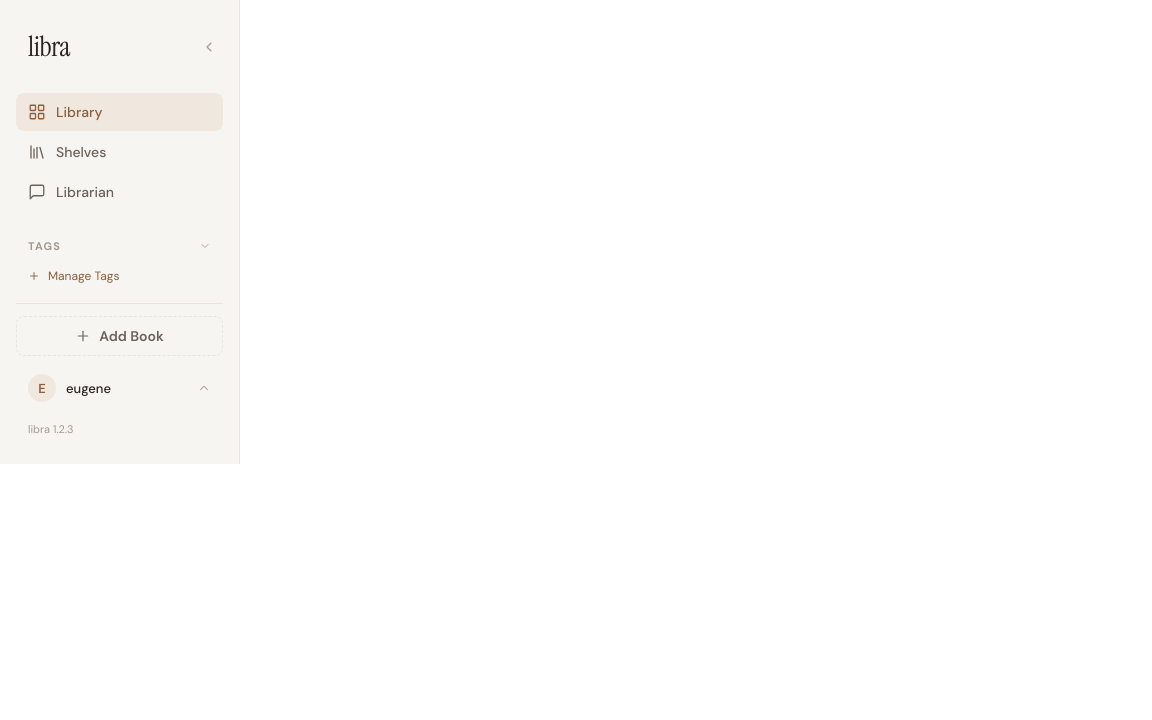
Sidebar › opens the librarian panel from its sidebar row, rather than navigating
The image size is (1152, 720).
Expected: the text "eugene" is shown, [66,380,111,396]
Click the button "Librarian". click: point(120, 192)
box: [16,173,223,211]
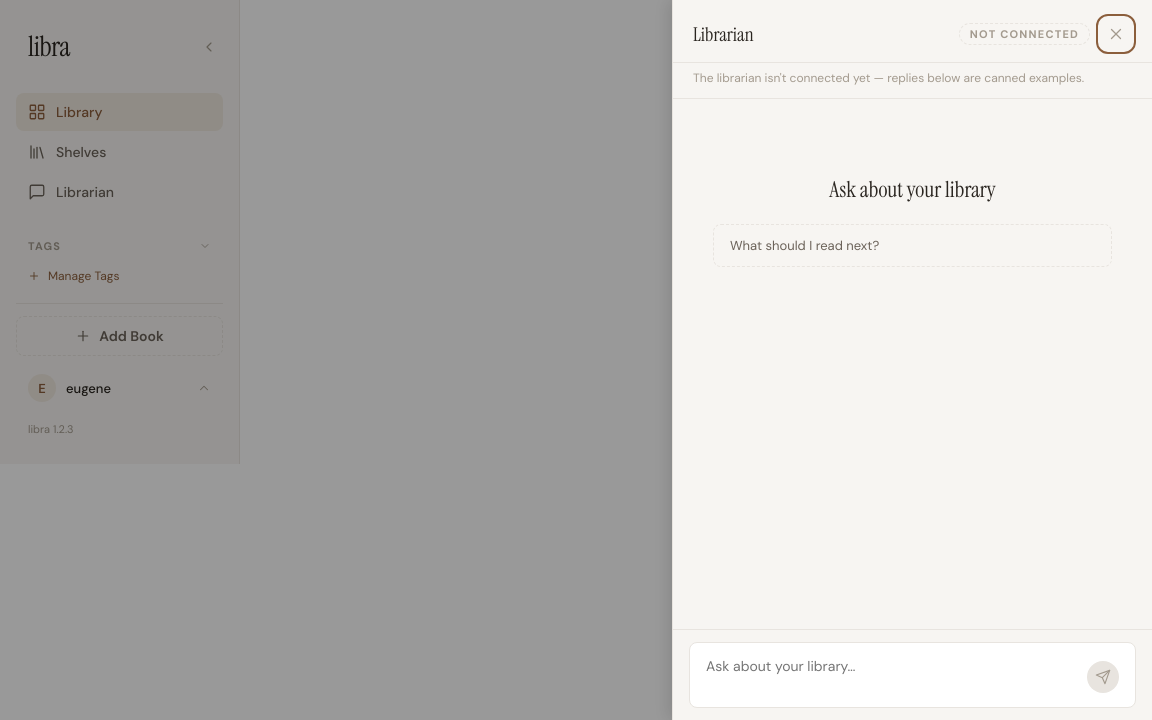
Expected: the heading "Librarian" is shown, [693,22,754,46]
